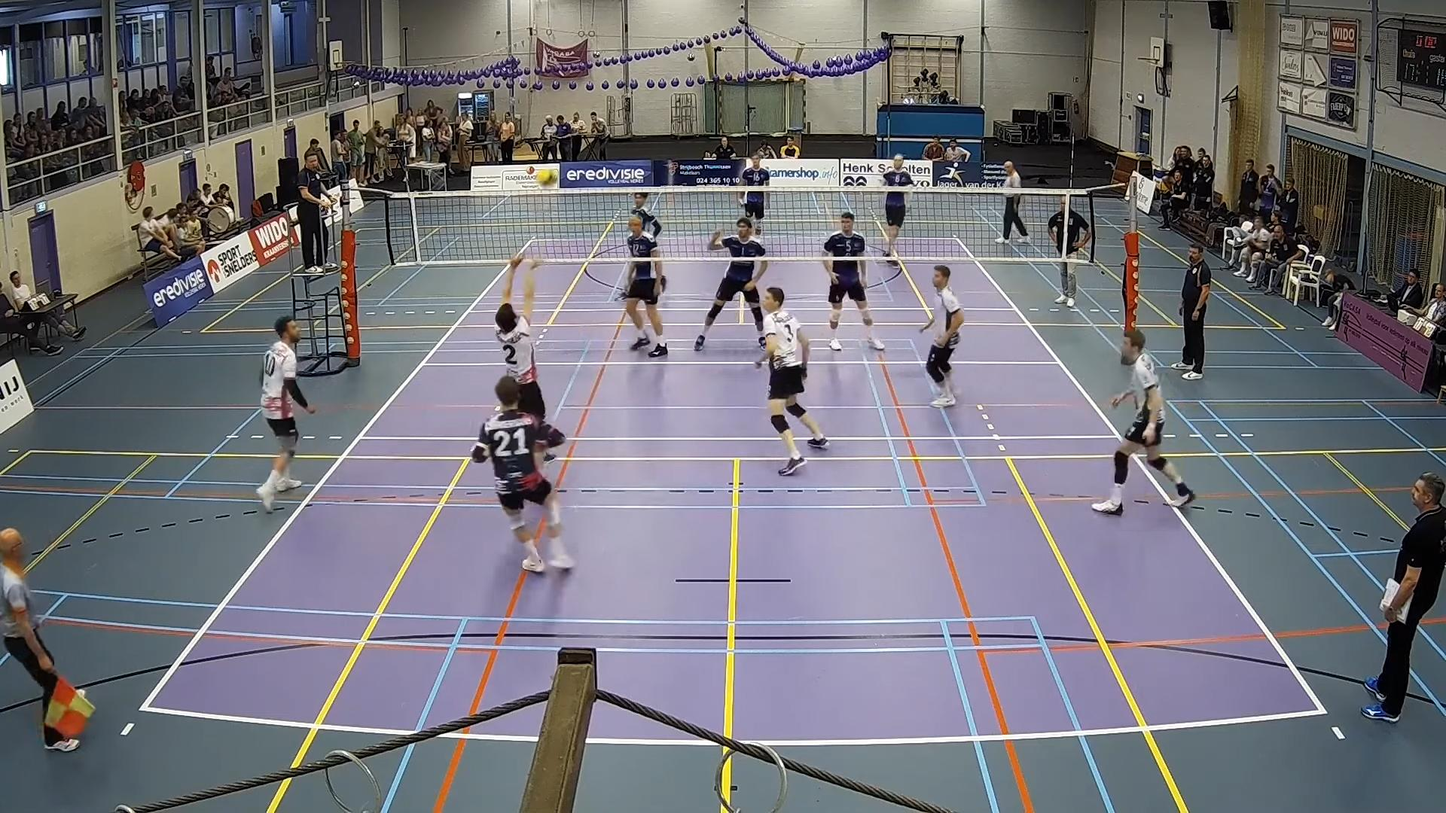difesa: (475, 251, 556, 377)
